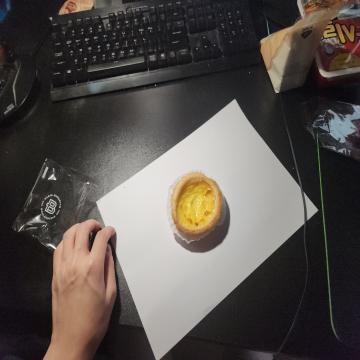EggTart: (170, 171, 223, 239)
